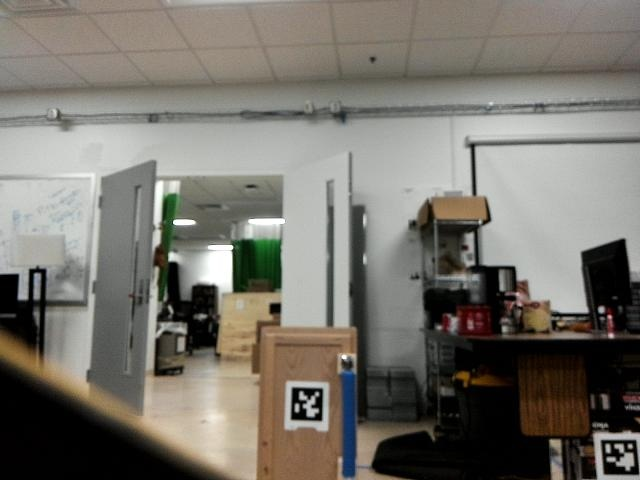noodle_handle: (331, 365, 360, 479)
